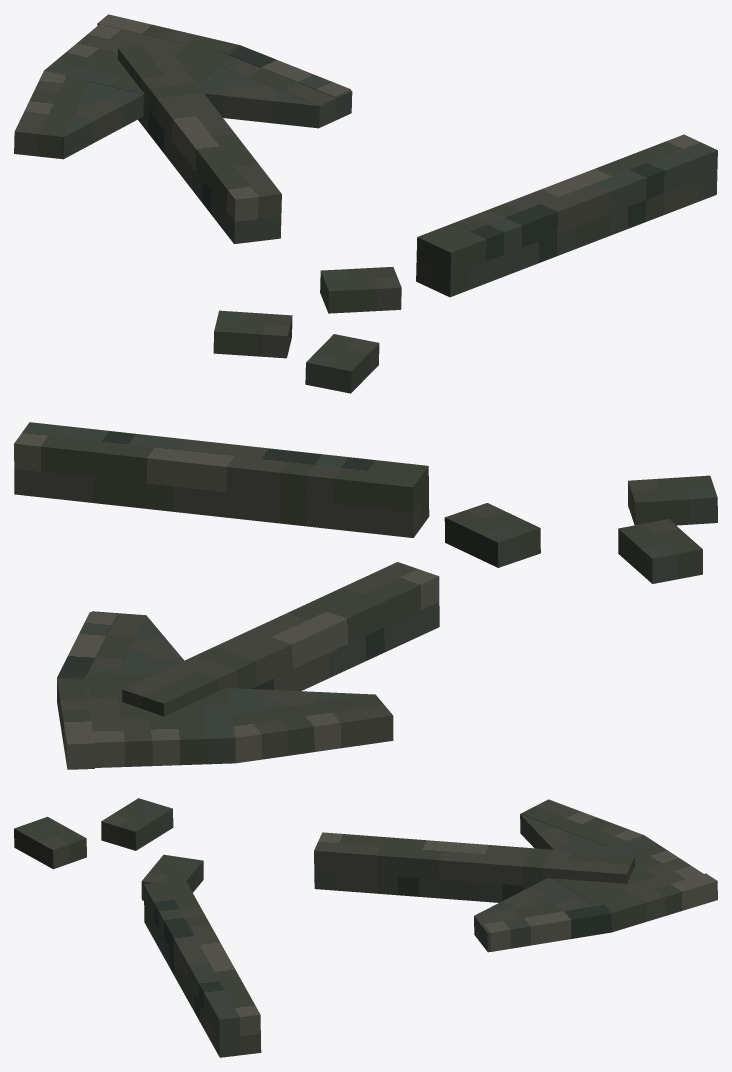
3 renders of one model, top to bottom at view 1: azimuth 30°, elevation 25°; view 2: azimuth 150°, elevation 25°; view 3: azimuth 270°, elevation 25°, orthographic. The views are drawn at different scales.
Visible parts, largest first — view 1: harpoon_1a-Local, harpoon_1-Local, tip_1$$(2)-Local, tip_r_2$$(1)-Local, tip_l$$(1)-Local, tip_l_2$$(1)2-Local, brokenbit2-Local, brokenbit-Local, brokenbit3-Local, tip_r$$(2)-Local, tip_r$$(3)-Local, tip_1$$(3)-Local; view 2: harpoon_1a-Local, harpoon_1-Local, tip_1$$(2)-Local, tip_l$$(1)-Local, brokenbit2-Local, brokenbit-Local, brokenbit3-Local, tip_1$$(3)-Local, tip_r_2$$(1)-Local, tip_l_2$$(1)2-Local, tip_r$$(2)-Local, tip_r$$(3)-Local; view 3: harpoon_1-Local, harpoon_1a-Local, tip_1$$(2)-Local, tip_r$$(3)-Local, tip_1$$(3)-Local, brokenbit3-Local, brokenbit-Local, tip_l$$(1)-Local, tip_l_2$$(1)2-Local, tip_r$$(2)-Local, tip_r_2$$(1)-Local, brokenbit2-Local.
Boxes of the visible parts, bbox=[...] form: harpoon_1a-Local: bbox=[416, 134, 717, 297]; harpoon_1-Local: bbox=[117, 42, 281, 244]; tip_1$$(2)-Local: bbox=[44, 24, 230, 116]; tip_r_2$$(1)-Local: bbox=[197, 66, 319, 128]; tip_l$$(1)-Local: bbox=[14, 71, 90, 158]; tip_l_2$$(1)2-Local: bbox=[62, 82, 143, 159]; brokenbit2-Local: bbox=[320, 267, 401, 313]; brokenbit-Local: bbox=[213, 310, 292, 358]; brokenbit3-Local: bbox=[305, 334, 379, 393]; tip_r$$(2)-Local: bbox=[219, 56, 352, 127]; tip_r$$(3)-Local: bbox=[226, 45, 350, 96]; tip_1$$(3)-Local: bbox=[97, 14, 239, 54]; harpoon_1a-Local: bbox=[14, 422, 429, 537]; harpoon_1-Local: bbox=[122, 562, 439, 716]; tip_1$$(2)-Local: bbox=[85, 673, 235, 767]; tip_l$$(1)-Local: bbox=[229, 694, 393, 763]; brokenbit2-Local: bbox=[444, 503, 540, 567]; brokenbit-Local: bbox=[618, 519, 702, 583]; brokenbit3-Local: bbox=[628, 475, 717, 525]; tip_1$$(3)-Local: bbox=[57, 677, 94, 769]; tip_r_2$$(1)-Local: bbox=[117, 615, 183, 674]; tip_l_2$$(1)2-Local: bbox=[228, 688, 374, 714]; tip_r$$(2)-Local: bbox=[86, 611, 146, 675]; tip_r$$(3)-Local: bbox=[57, 612, 116, 679]; harpoon_1-Local: bbox=[314, 832, 635, 902]; harpoon_1a-Local: bbox=[143, 879, 261, 1057]; tip_1$$(2)-Local: bbox=[555, 835, 703, 905]; tip_r$$(3)-Local: bbox=[483, 904, 611, 951]; tip_1$$(3)-Local: bbox=[603, 873, 717, 932]; brokenbit3-Local: bbox=[14, 816, 86, 869]; brokenbit-Local: bbox=[101, 798, 173, 850]; tip_l$$(1)-Local: bbox=[520, 799, 643, 847]; tip_l_2$$(1)2-Local: bbox=[520, 814, 606, 852]; tip_r$$(2)-Local: bbox=[474, 898, 595, 952]; tip_r_2$$(1)-Local: bbox=[475, 878, 583, 915]; brokenbit2-Local: bbox=[141, 854, 203, 900].
Bounding box in the file's own units: 25.86 × 2.62 × 33.09.
Materials: 12 (12 with a texture image).
